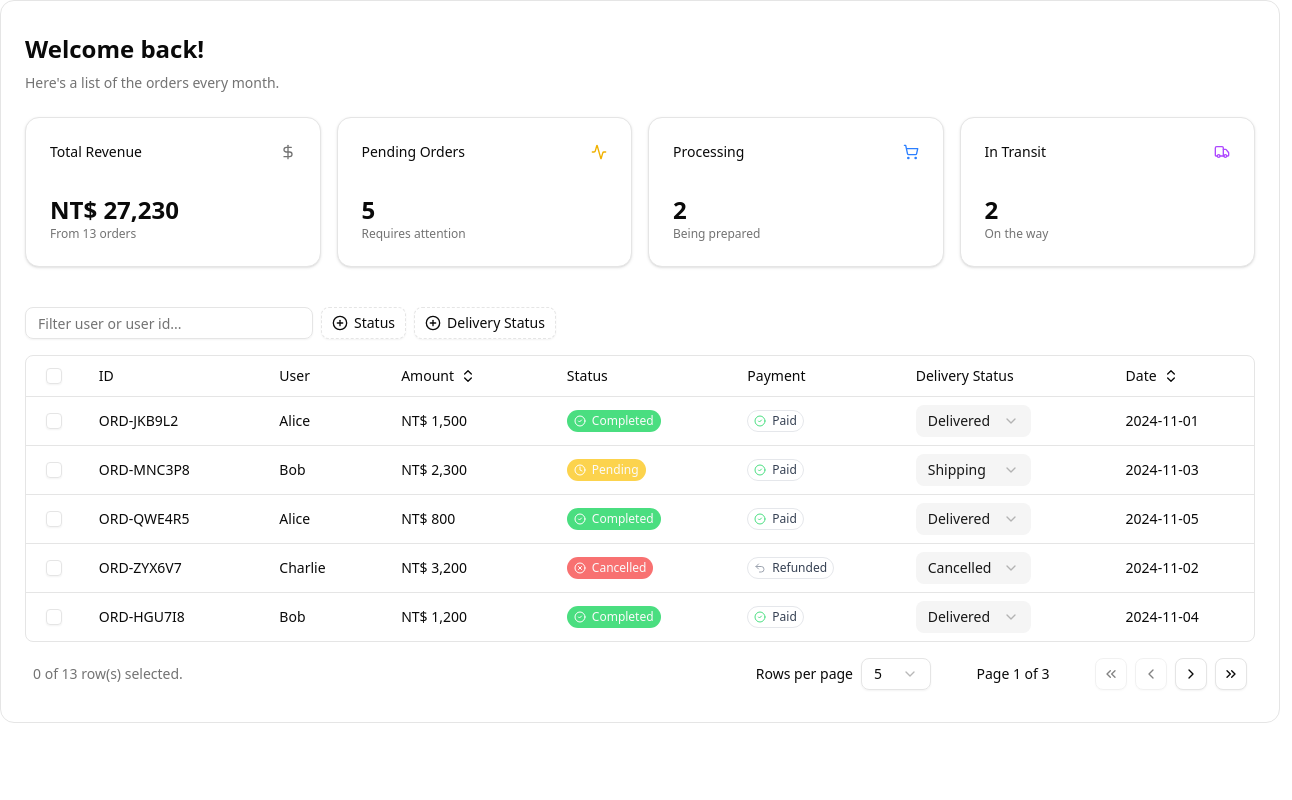
Scenario: OrderManagementServer › Filter Functionality › shows reset button when filters are applied
expect the text "Date" is shown: met, box x1=1126 y1=366 x2=1157 y2=386
In the field with placeholder "Filter user or user id...": (169, 323) x1=25 y1=307 x2=313 y2=339, type "test"
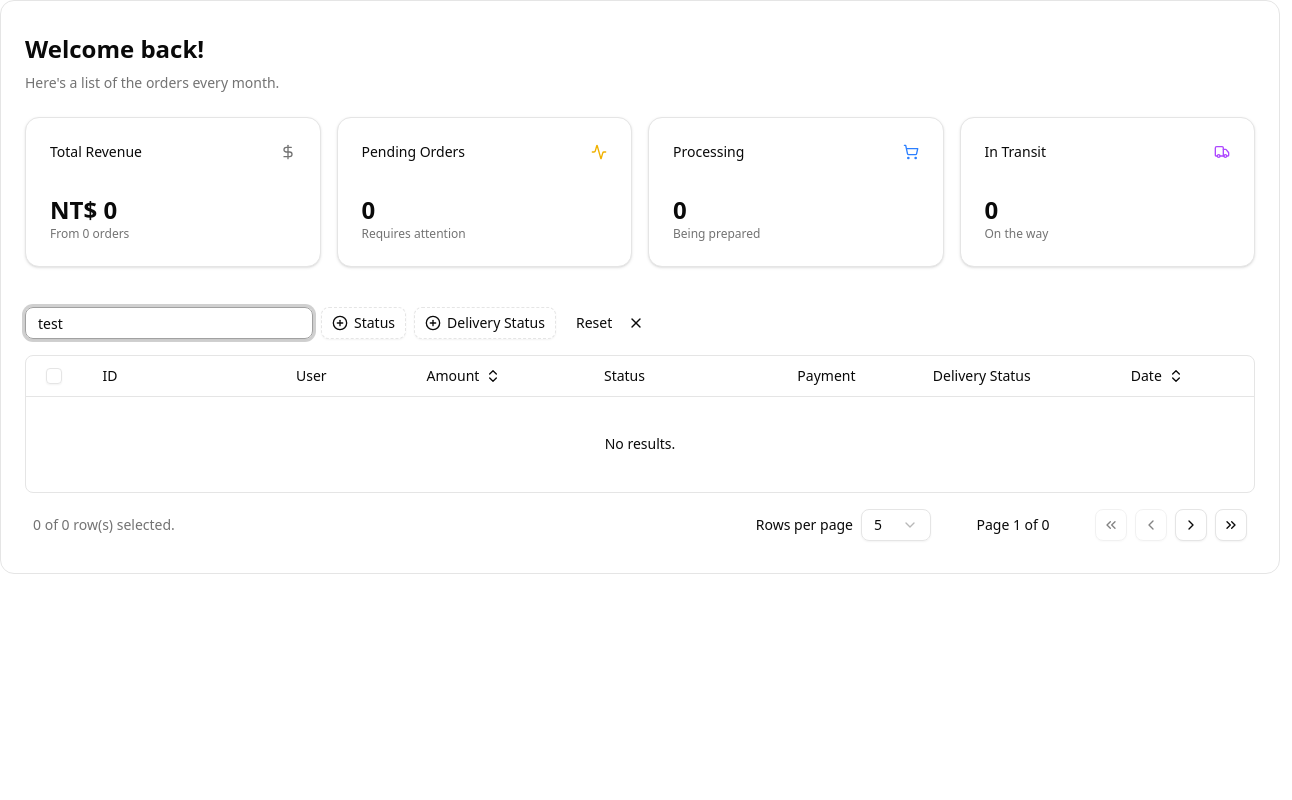
expect the button "Reset" is shown: met, box x1=564 y1=307 x2=656 y2=339
